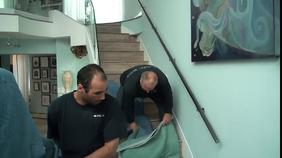sit: (116, 72, 158, 128)
